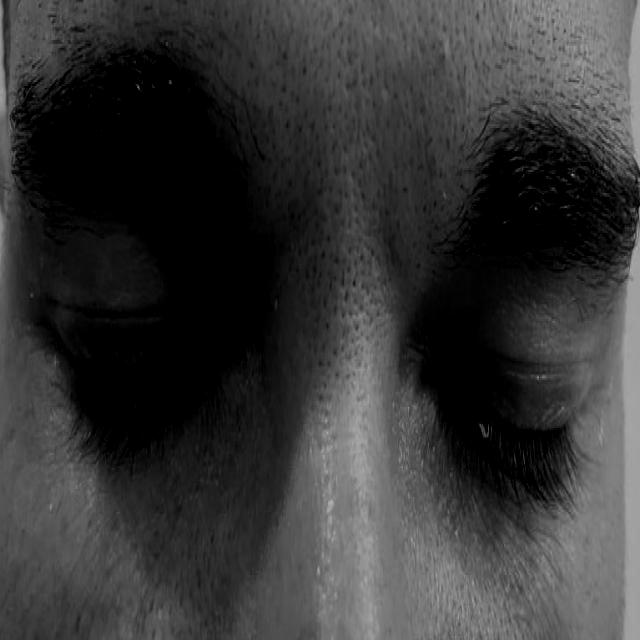real: (25, 80, 605, 574)
